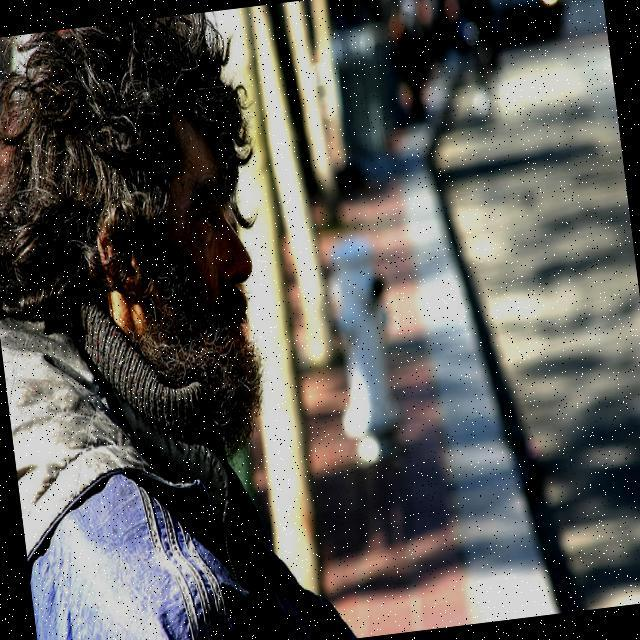fire_hydrant: (318, 230, 406, 462)
